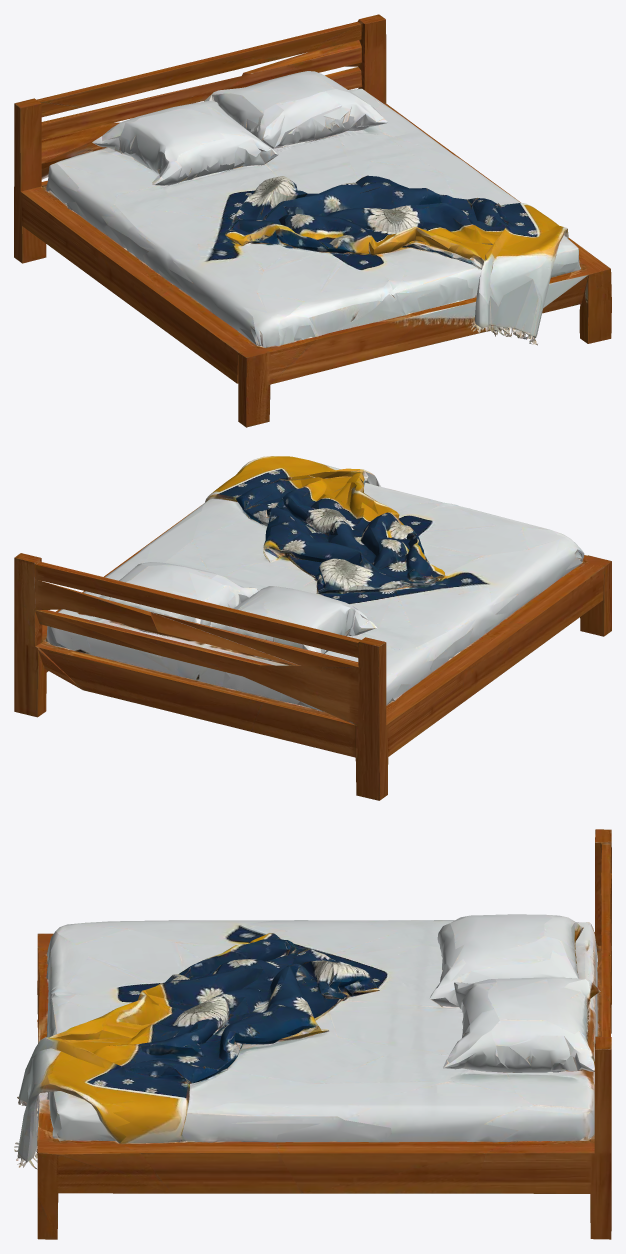
The picture shows the model from 3 angles, top to bottom: view 1: azimuth 30°, elevation 25°; view 2: azimuth 150°, elevation 25°; view 3: azimuth 270°, elevation 25°; orthographic projection. The views are drawn at different scales.
Size of the model in its own units: 1.65 by 0.6676 by 1.9.
Materials: 1 (1 with a texture image).
